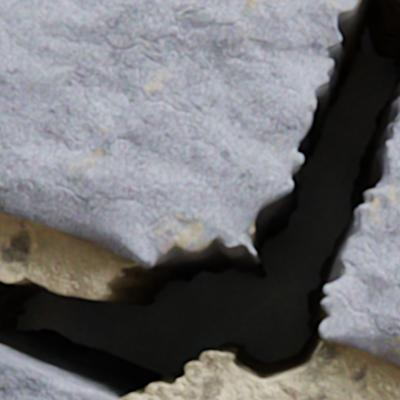brick: (0, 349, 116, 399)
broken_brick: (0, 0, 358, 266), (319, 113, 399, 366)
crack: (0, 0, 399, 399)
